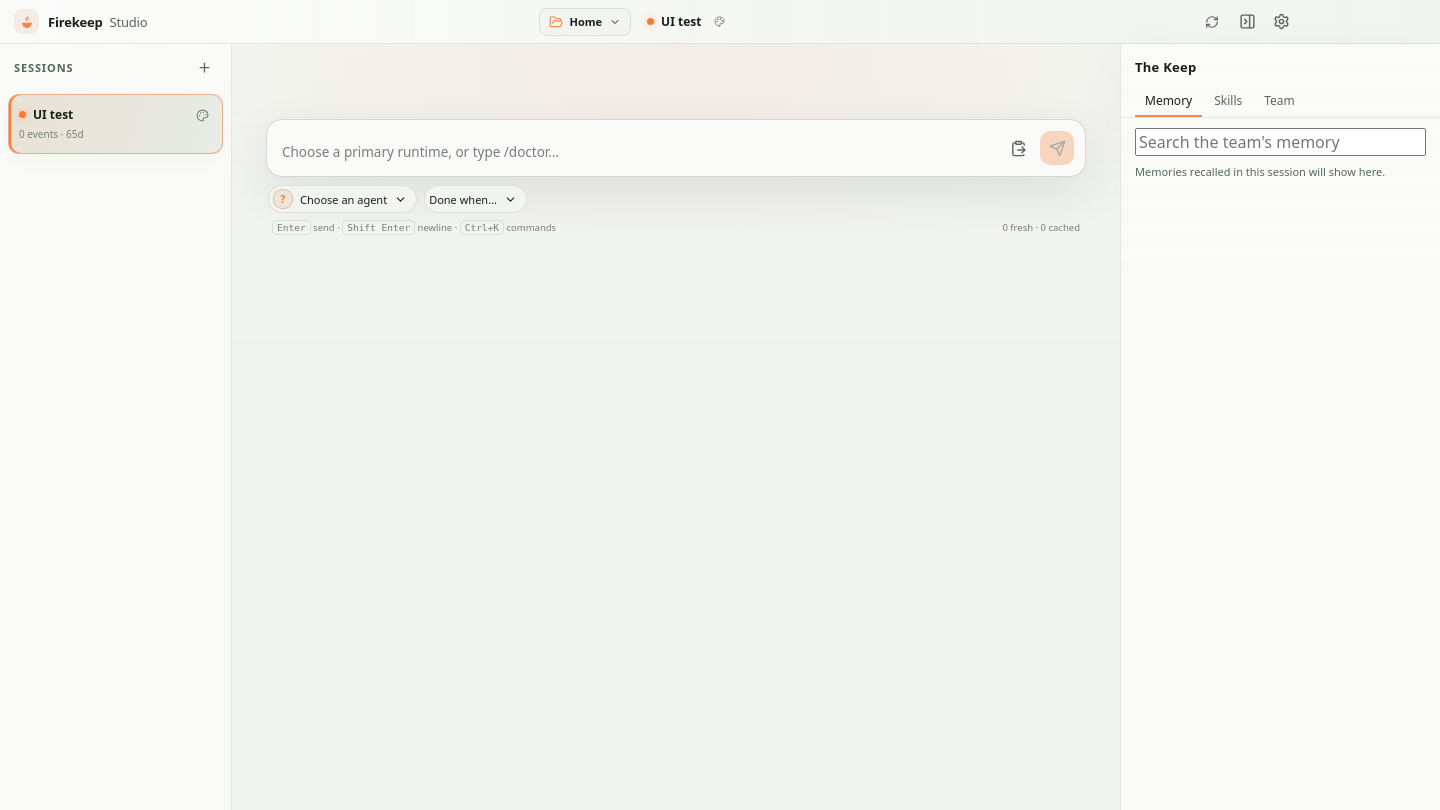
Test case: Firekeep Studio renderer › updates the personal-mode row and button when the Keep pushes a flipped status
Click the button named "Settings".
click(1281, 22)  # box [1266,6,1296,36]
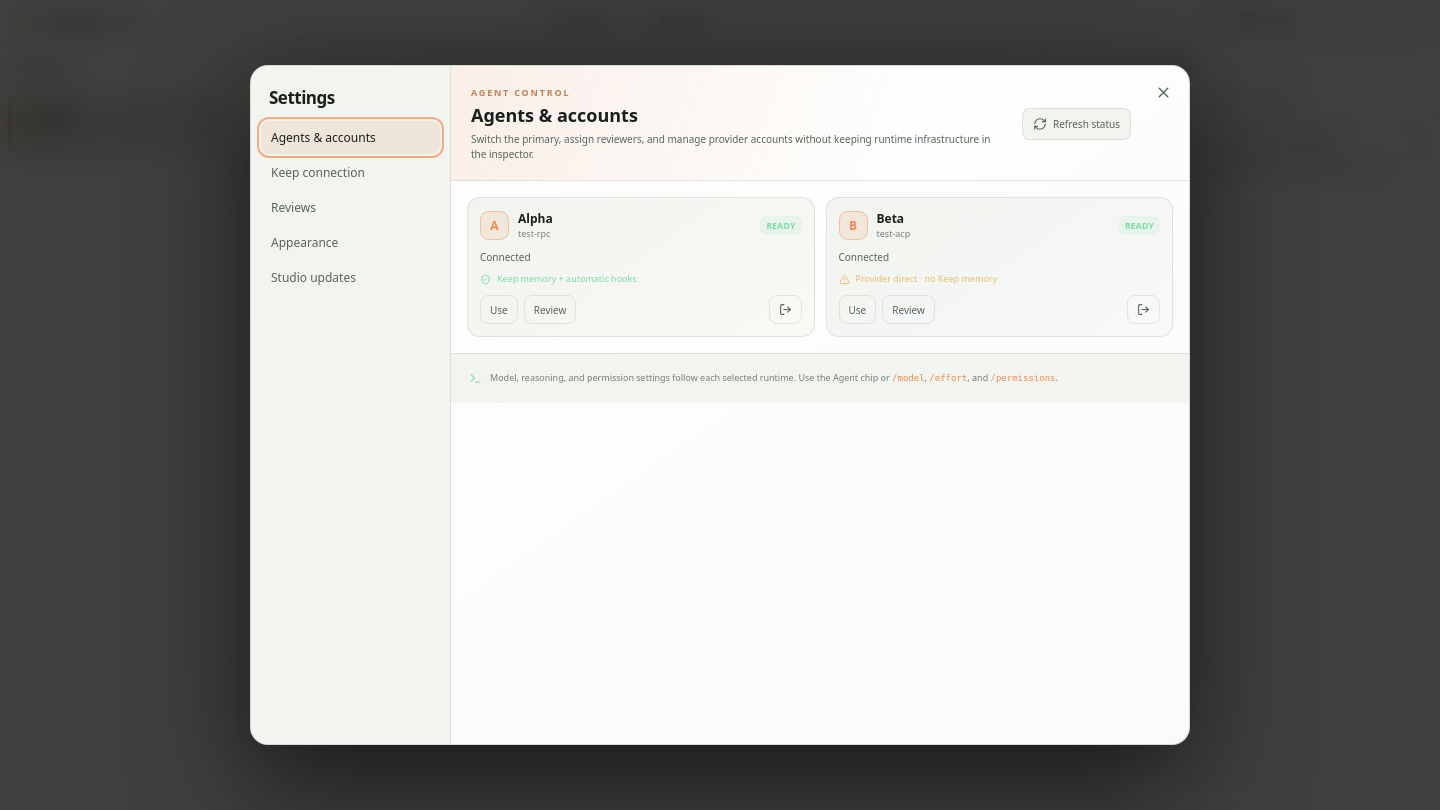
Click the tab "Keep connection".
click(350, 172)  # box [261,156,440,189]
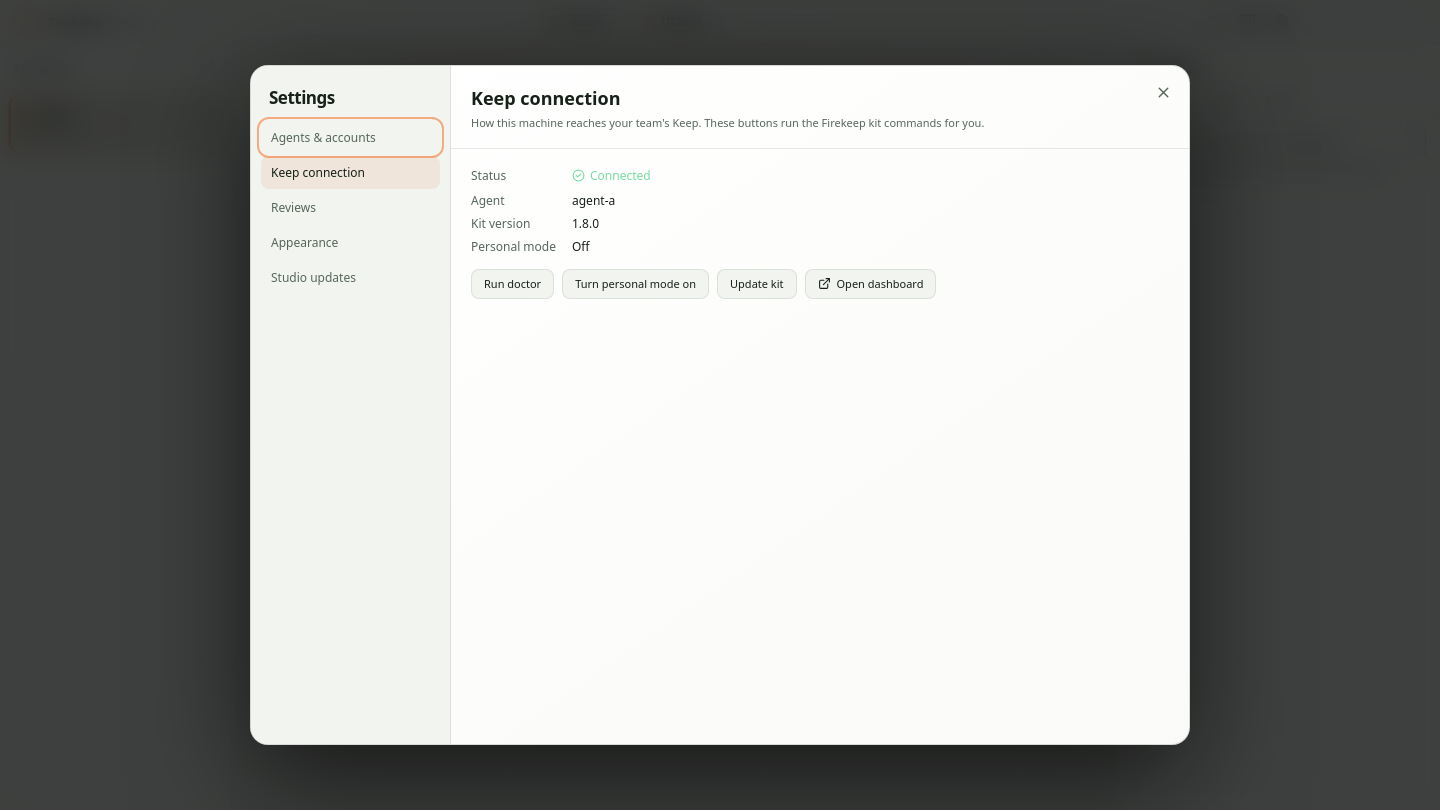
Expected: the button "Turn personal mode on" is not pressed
Click the button "Turn personal mode on".
click(636, 284)  # box [562,268,709,298]
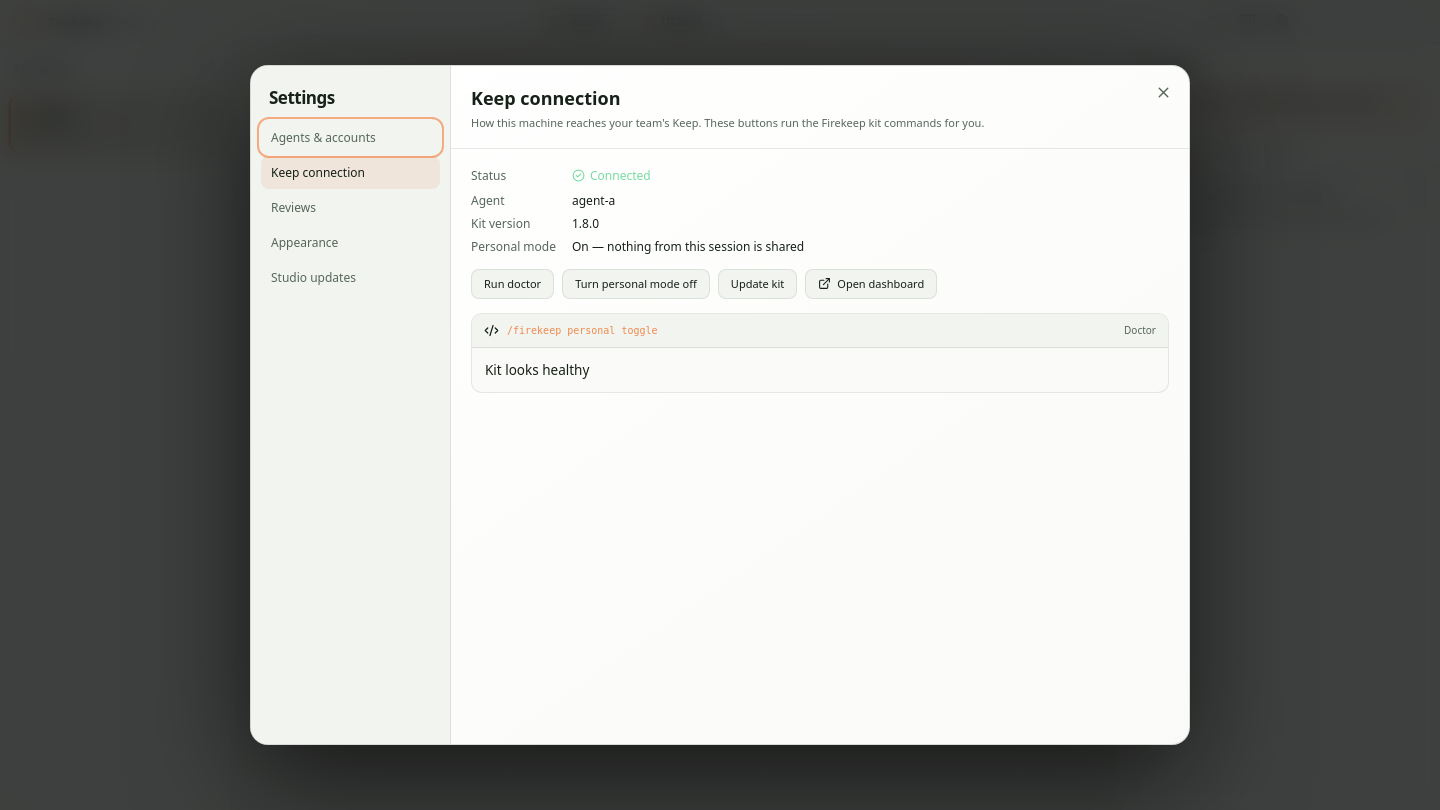
Expected: the text "On — nothing from this session is shared" is shown, [572,238,804,254]
